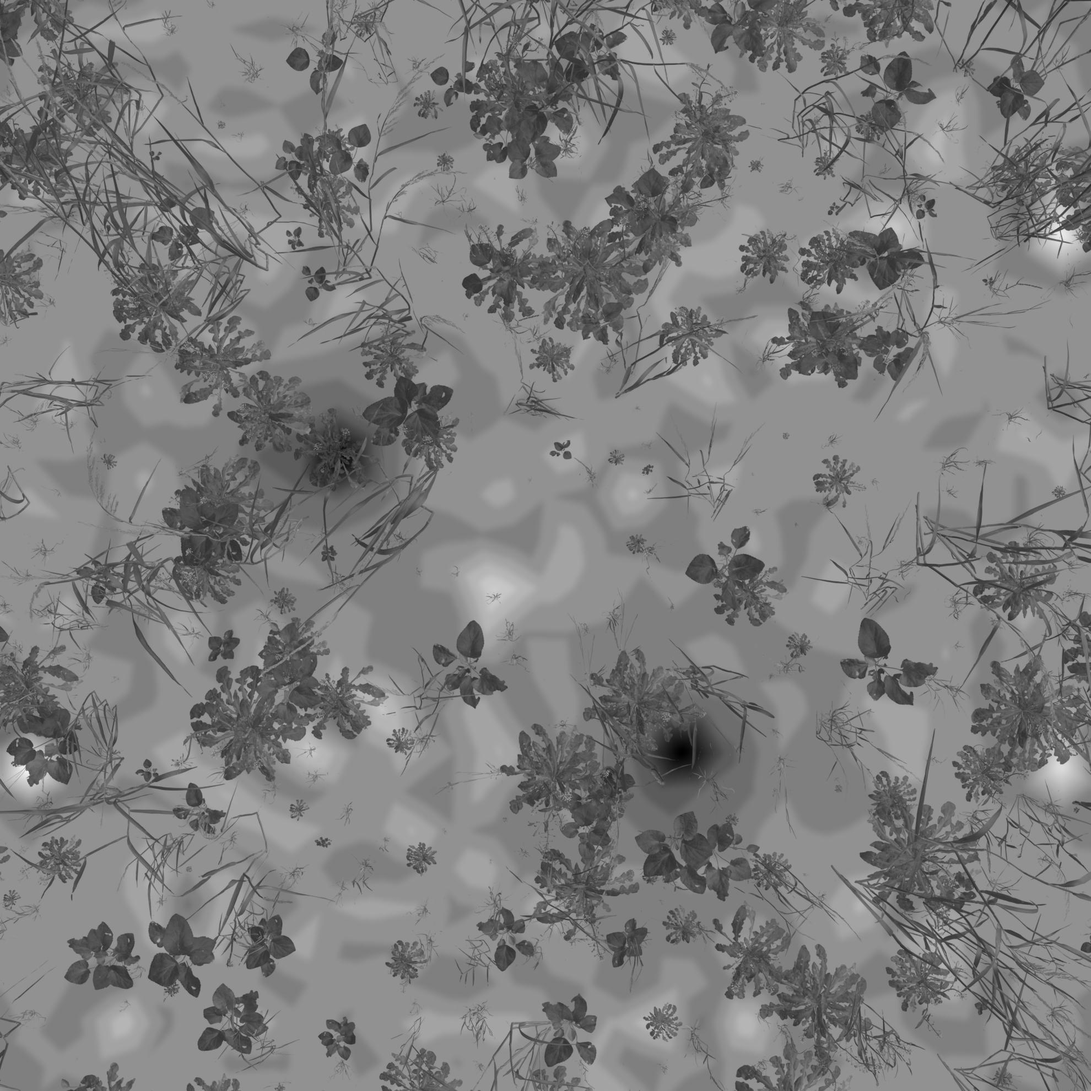landmine: (268, 391, 398, 523), (626, 693, 744, 813)
